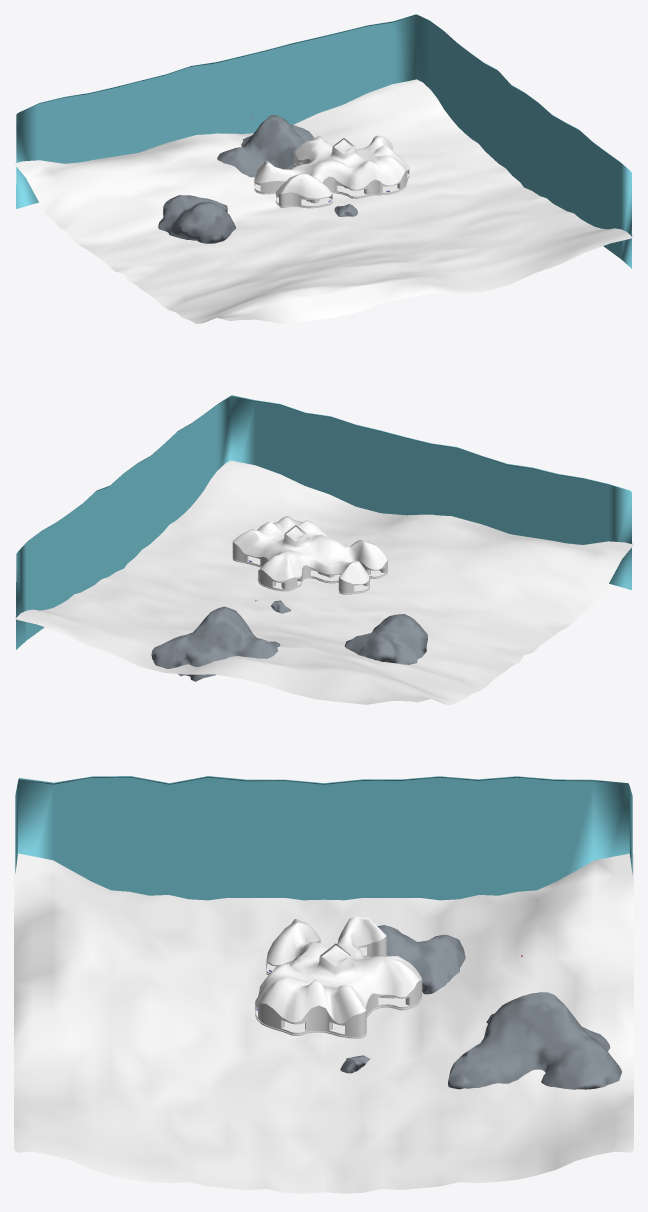
The model's file is Underwater.glb.
3 views of the same model, one above another, from view 1: azimuth 30°, elevation 25°; view 2: azimuth 150°, elevation 25°; view 3: azimuth 270°, elevation 25° (orthographic). The views are drawn at different scales.
Visible parts, largest first — view 1: Suelo2, Agua1, Rocas, Techo, Locales, Suelo3; view 2: Suelo2, Agua1, Rocas, Techo, Locales, Suelo3; view 3: Suelo2, Agua1, Rocas, Techo, Locales, Suelo3.
Boxes of the visible parts, x1,y1,x2,y2 form: Suelo2: [14, 79, 633, 323]; Agua1: [16, 14, 631, 268]; Rocas: [158, 115, 357, 243]; Techo: [254, 135, 409, 198]; Locales: [254, 152, 409, 205]; Suelo3: [254, 162, 409, 208]; Suelo2: [14, 460, 633, 705]; Agua1: [16, 395, 631, 649]; Rocas: [151, 600, 427, 681]; Techo: [232, 516, 387, 584]; Locales: [232, 542, 387, 592]; Suelo3: [232, 556, 387, 594]; Suelo2: [14, 853, 633, 1193]; Agua1: [15, 776, 632, 900]; Rocas: [340, 925, 621, 1089]; Techo: [255, 916, 422, 1023]; Locales: [255, 936, 422, 1035]; Suelo3: [255, 947, 422, 1038].
Size of the model in its own units: 6.91 by 1.66 by 6.45.
